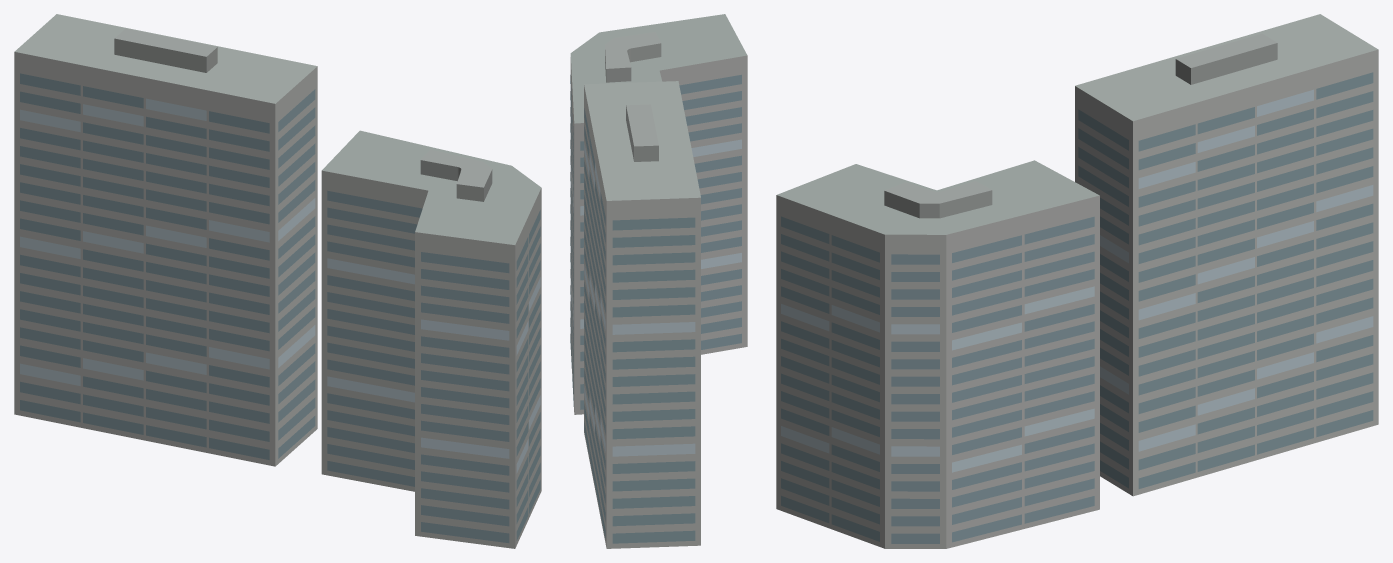
The model's file is apt-a13880602.glb.
The picture shows the model from 3 angles, left to right: view 1: azimuth 30°, elevation 25°; view 2: azimuth 150°, elevation 25°; view 3: azimuth 270°, elevation 25°; orthographic projection. The views are drawn at different scales.
Visible parts, largest first — view 1: apt-a13880602; view 2: apt-a13880602; view 3: apt-a13880602.
Part boxes in pixels (<box>): apt-a13880602: <box>14,14,541,548</box>; apt-a13880602: <box>570,14,747,548</box>; apt-a13880602: <box>776,14,1378,548</box>.
Size of the model in its own units: 49.03 by 56 by 77.97.
